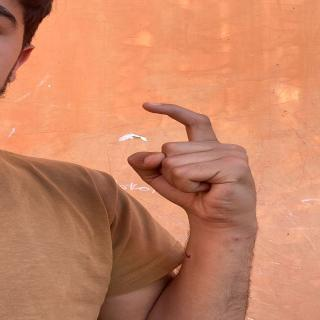RAA: (119, 97, 276, 230)
